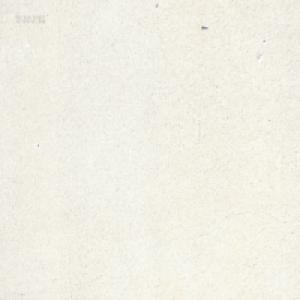Nail: (201, 24, 207, 29)
